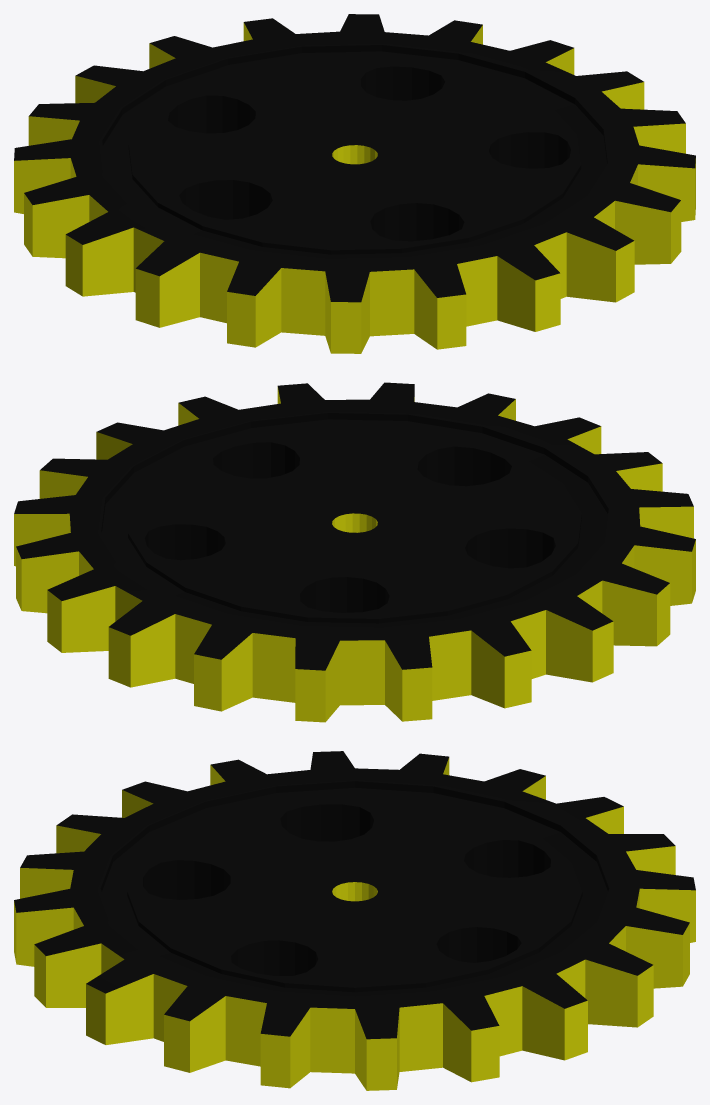
The model's file is D2GearV3.fbx.
3 renders of one model, top to bottom at view 1: azimuth 30°, elevation 25°; view 2: azimuth 150°, elevation 25°; view 3: azimuth 270°, elevation 25°, orthographic.
Parts seen in each view (by area): view 1: D2GearV3; view 2: D2GearV3; view 3: D2GearV3.
Boxes of the visible parts, x1=… form: D2GearV3: x1=14, y1=14, x2=695, y2=353; D2GearV3: x1=14, y1=382, x2=695, y2=722; D2GearV3: x1=14, y1=751, x2=695, y2=1090.
Size of the model in its own units: 4.79 by 0.5 by 4.79.
